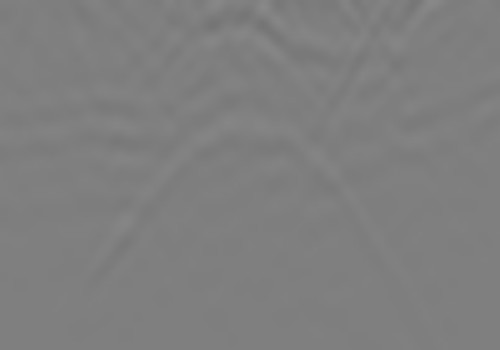hyperbola: (95, 100, 419, 278)
